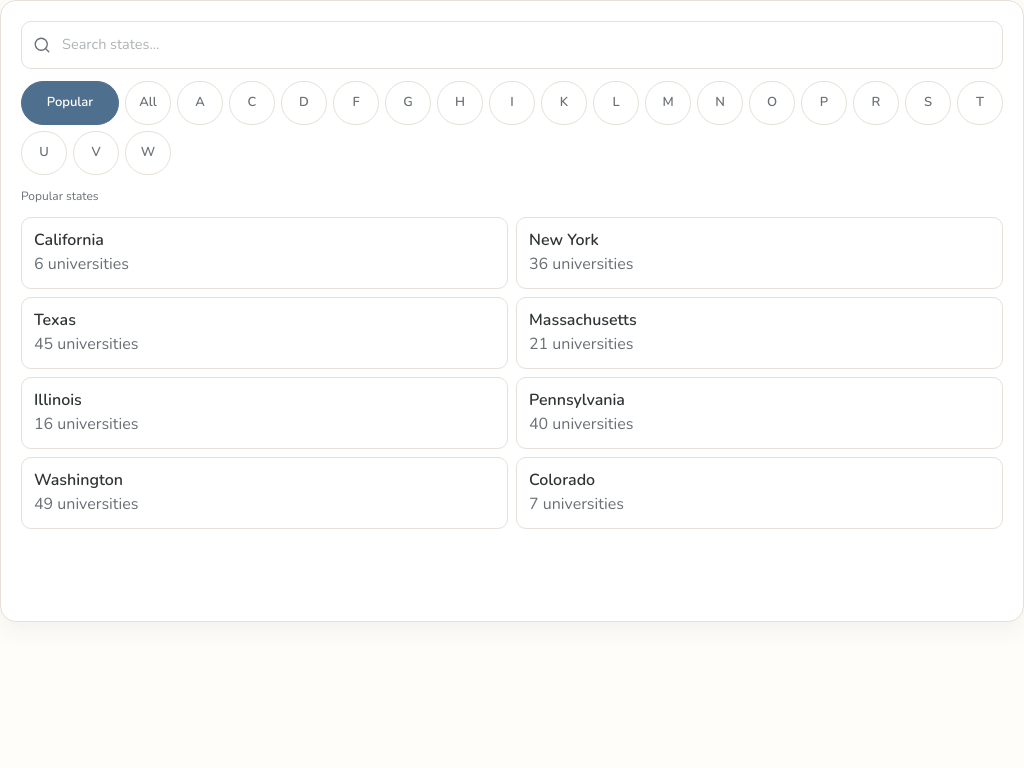
Scenario: StatePanel › shows only the chosen letter's states
The width and height of the screenshot is (1024, 768).
What coordinates should you click on to do the following:
click the button "M"
I would click on:
 (668, 103)
Its box is [645,81,691,125].
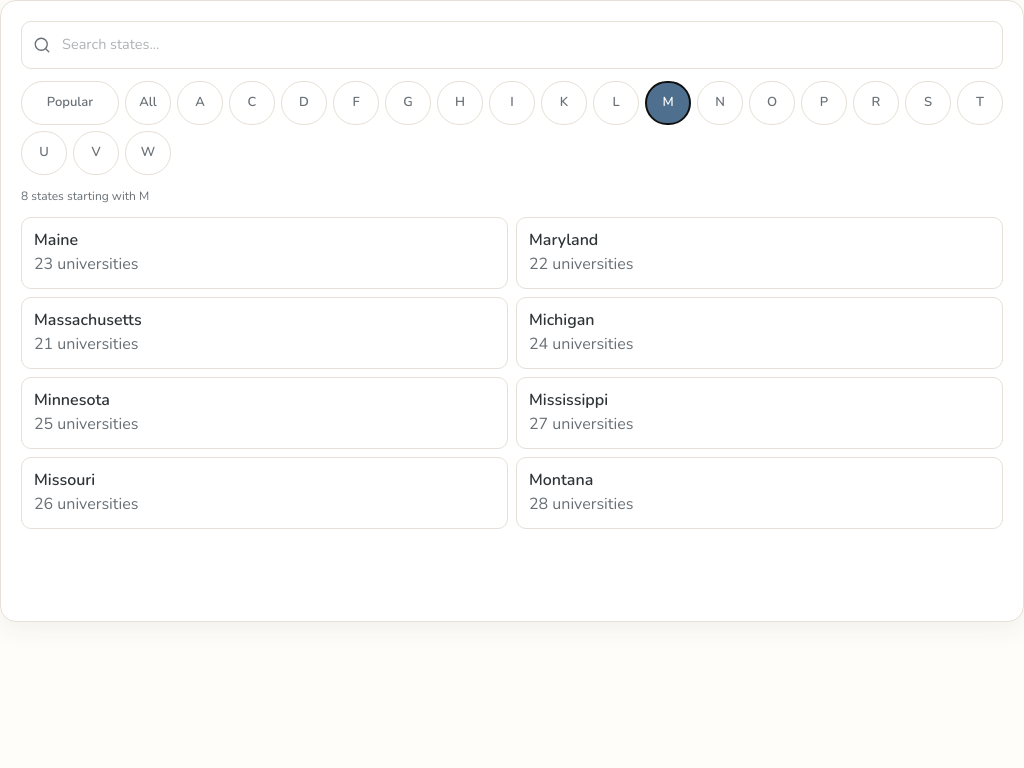
expect the message reads "8 states starting with M": met, box [21,188,149,204]
expect the text "Texas" is gone: met
